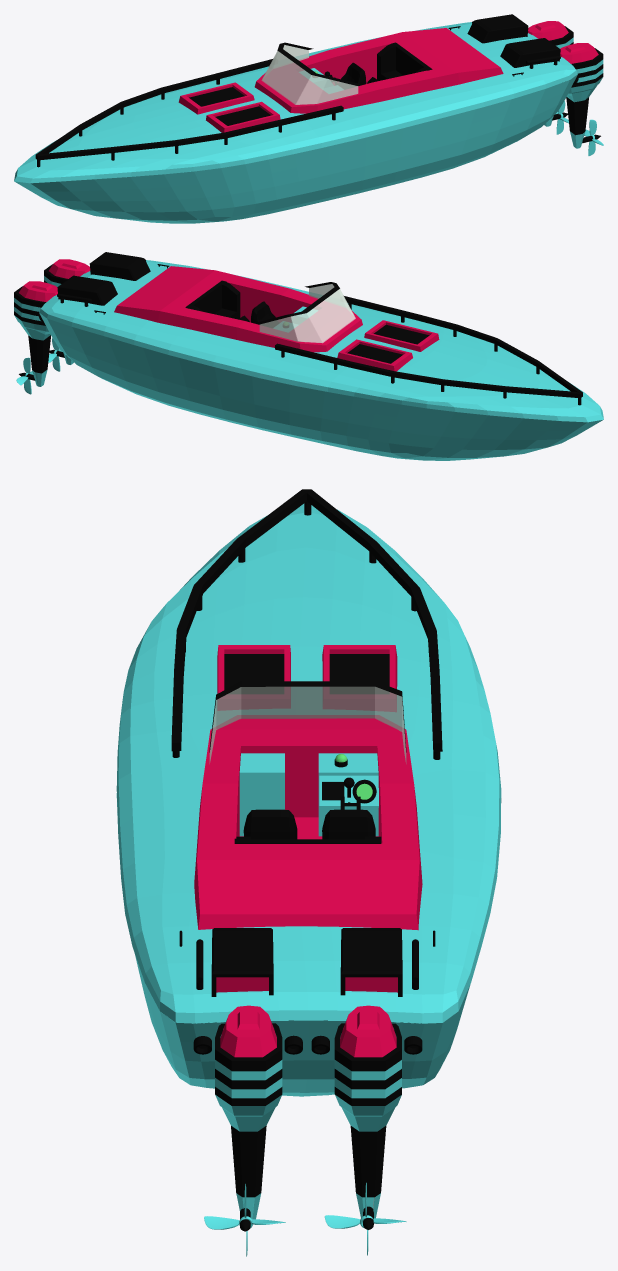
Rendered from powerboat01.glb.
3 views of the same model, one above another, from view 1: azimuth 30°, elevation 25°; view 2: azimuth 150°, elevation 25°; view 3: azimuth 270°, elevation 25° (orthographic). The views are drawn at different scales.
Parts seen in each view (by area): view 1: Hull, Deck, CabinTop, Railing, Plane, BackBoxRight, BenchSeat, BackBoxLeft, FrontBoxRight, FrontBoxLeft, LeftMotor.026, LeftMotor.020 (+7 smaller); view 2: Hull, Deck, CabinTop, Railing, Plane, BenchSeat, BackBoxLeft, BackBoxRight, FrontBoxRight, FrontBoxLeft, LeftMotor.028, LeftMotor.021 (+7 smaller); view 3: Deck, CabinTop, Hull, Railing, Plane, BackBoxLeft, BackBoxRight, BoxLeft, LeftMotor.021, LeftMotor.020, FrontBoxRight, FrontBoxLeft (+13 smaller).
Boxes of the visible parts, x1,y1,x2,y2 form: Hull: (14,74,577,223); Deck: (14,22,577,183); CabinTop: (254,28,503,113); Railing: (35,58,343,167); Plane: (261,45,358,104); BackBoxRight: (467,14,528,43); BenchSeat: (377,42,432,80); BackBoxLeft: (500,38,560,67); FrontBoxRight: (178,82,254,114); FrontBoxLeft: (206,101,280,132); LeftMotor.026: (566,97,588,135); LeftMotor.020: (560,43,598,63); Hull: (39,313,603,460); Deck: (39,260,603,422); CabinTop: (114,266,362,352); Railing: (275,295,582,405); Plane: (259,284,355,343); BenchSeat: (185,280,240,319); BackBoxLeft: (89,252,150,280); BackBoxRight: (57,275,117,305); FrontBoxRight: (337,339,412,371); FrontBoxLeft: (364,320,439,351); LeftMotor.028: (28,335,50,373); LeftMotor.021: (19,281,57,301); Deck: (116,503,501,1023); CabinTop: (194,715,422,930); Hull: (116,793,501,1096); Railing: (171,489,442,759); Plane: (209,686,406,763); BackBoxLeft: (211,928,273,996); BackBoxRight: (340,928,402,996); BoxLeft: (239,753,284,836); LeftMotor.021: (340,1005,396,1057); LeftMotor.020: (220,1005,276,1057); FrontBoxRight: (322,645,397,711); FrontBoxLeft: (217,645,290,710).
Bounding box in the file's own units: 10.26 × 2.58 × 2.99.
